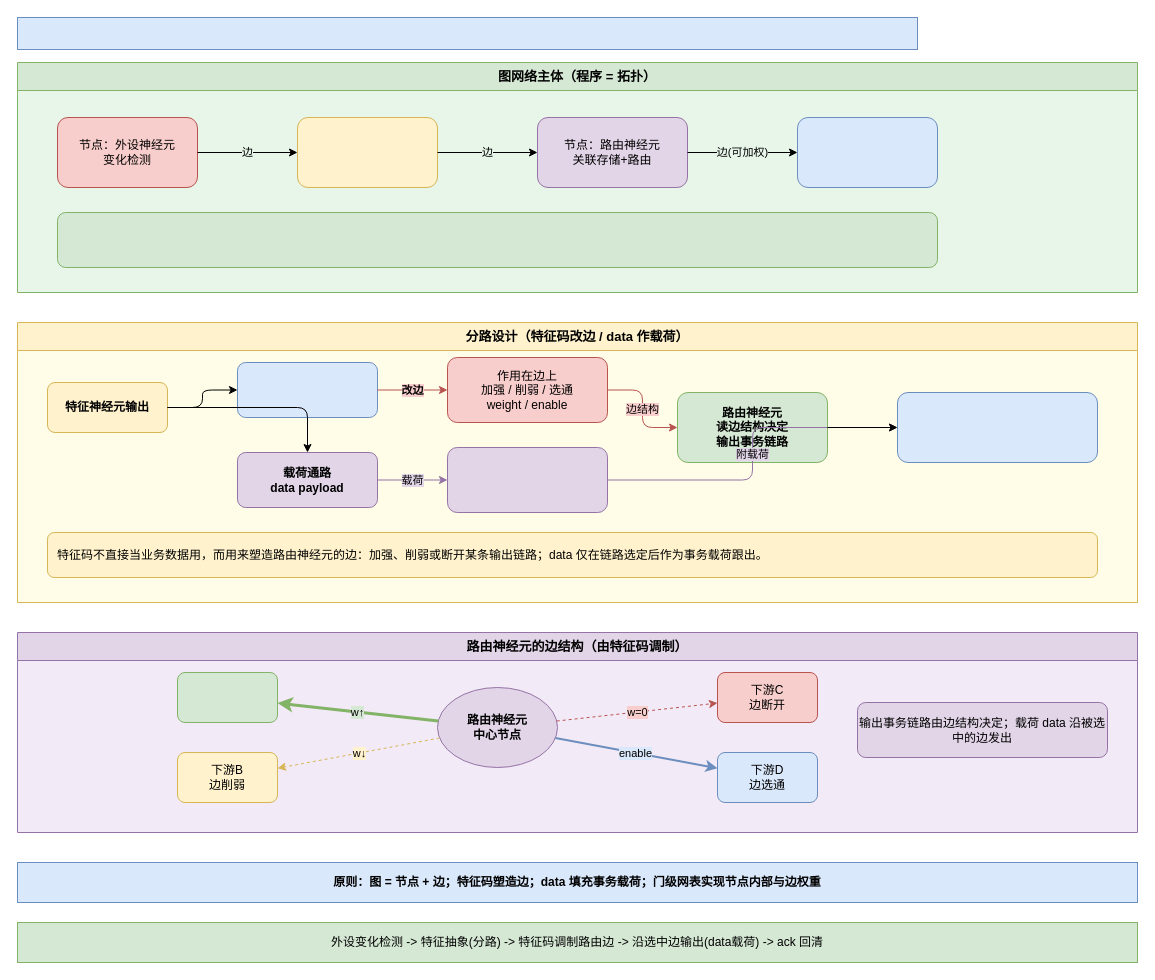
Some shapes in this 1155 by 980 pixel diagram are drawn without their labels. The centre of each missing label's shape, as x and y in pixels:
下游A 边加强: pixel 227 697
图网络核心：节点(神经元) + 边(relation) ；分路：特征码改边，data 作载荷: pixel 467 33
旁路保持 payload latch 等待路由结果: pixel 527 479
特征码通路 feat_code: pixel 307 390
节点 = 神经元门级实例（处理/存储） 边 = relation 线束 + 权重/连通结构（决定事务往哪走、强不强）: pixel 497 240
节点：特征神经元 稀疏特征码: pixel 367 152
节点：输出神经元 事务发放: pixel 867 152
输出事务 链路依据<-特征码 载荷<-data: pixel 997 427
